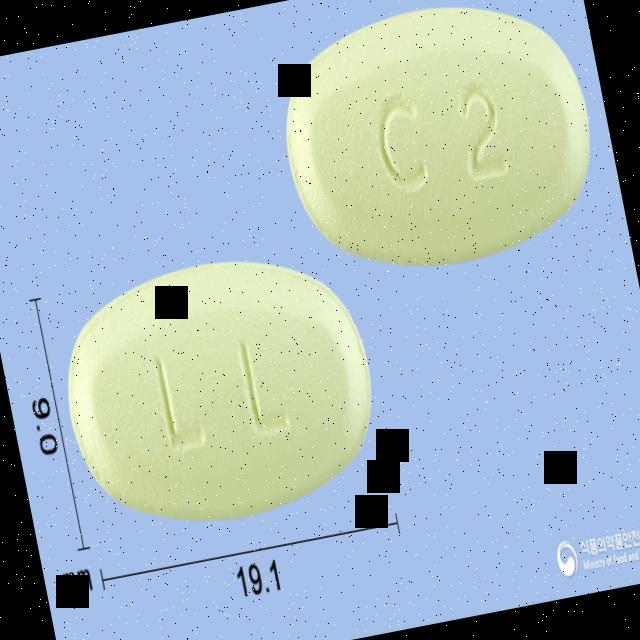Clratomin: (48, 234, 394, 546), (265, 0, 612, 287)
